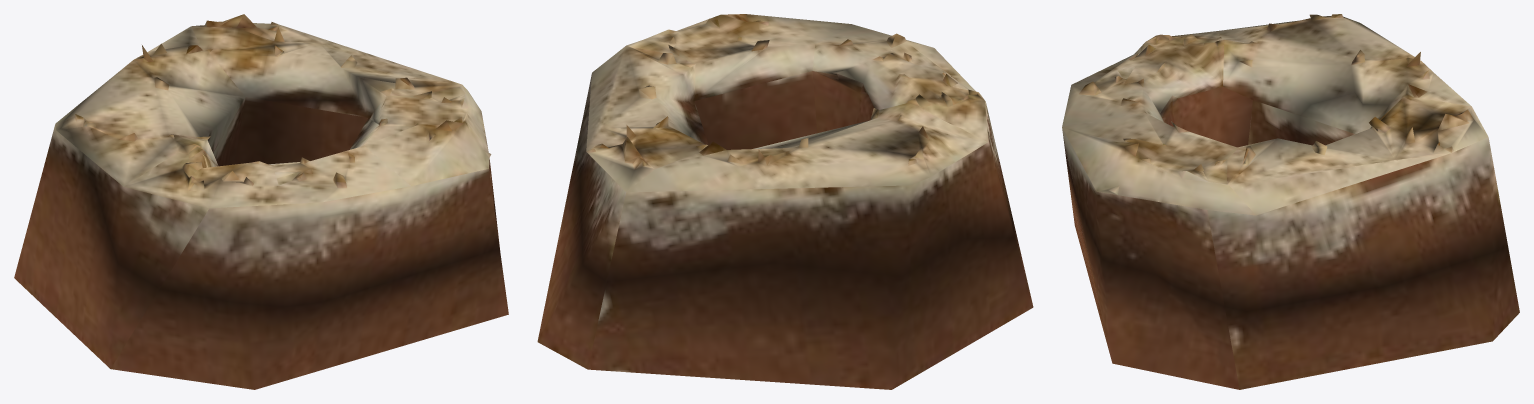
File: carrot_cake.glb
3 renders of one model, left to right at view 1: azimuth 30°, elevation 25°; view 2: azimuth 150°, elevation 25°; view 3: azimuth 270°, elevation 25°, orthographic. The views are drawn at different scales.
Visible parts, largest first — view 1: carrot_cake; view 2: carrot_cake; view 3: carrot_cake.
Boxes of the visible parts, bbox=[...] form: carrot_cake: bbox=[14, 14, 508, 389]; carrot_cake: bbox=[537, 14, 1033, 389]; carrot_cake: bbox=[1062, 14, 1519, 389].
Size of the model in its own units: 0.1982 by 0.095 by 0.1889.
Materials: 1 (1 with a texture image).
